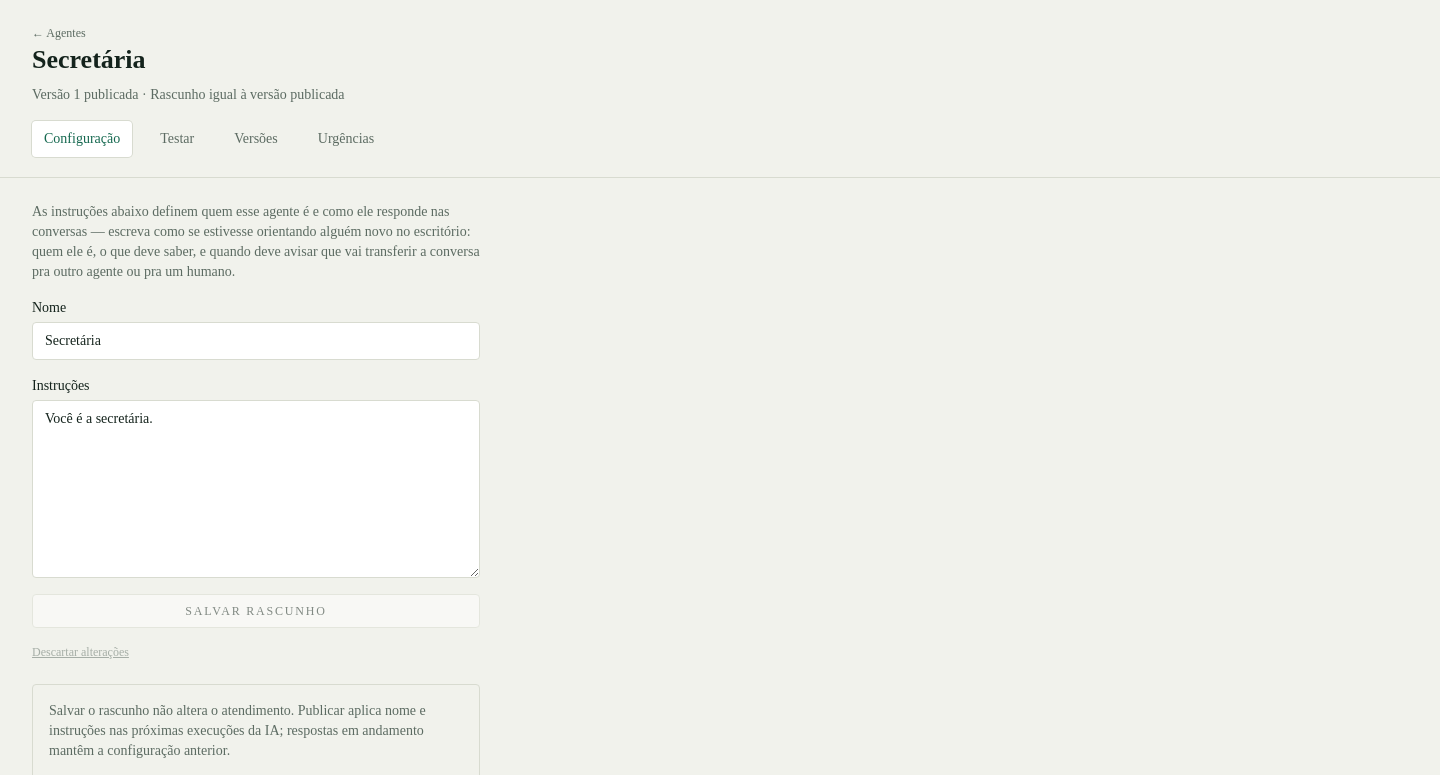
AgentDetail › preserva o texto e mantém o aviso quando o salvamento falha
Replace the text in the field showing "Secretária" with "Nome ajustado" at (256, 340), box [32, 322, 480, 360]
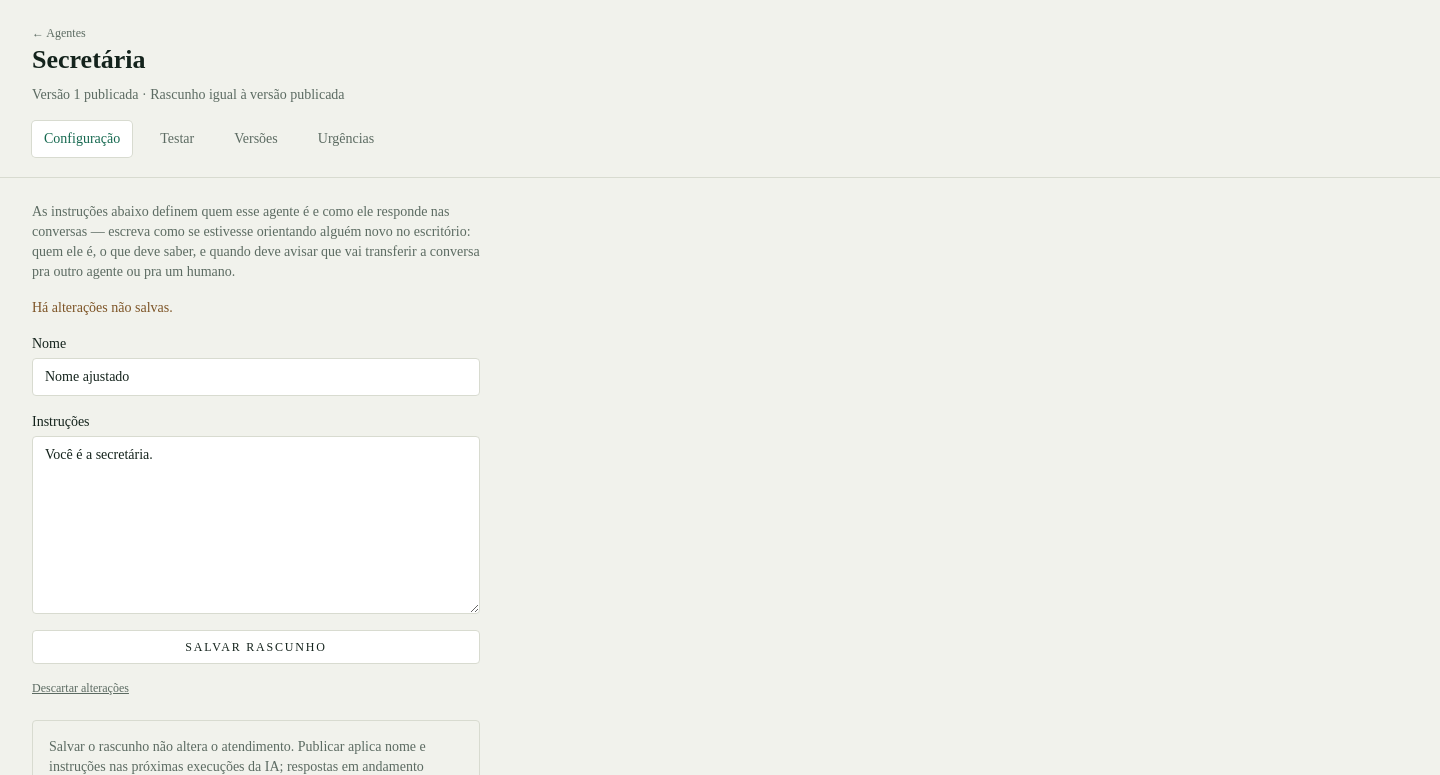
Click the button "Salvar rascunho" at (256, 646), box [32, 630, 480, 664]
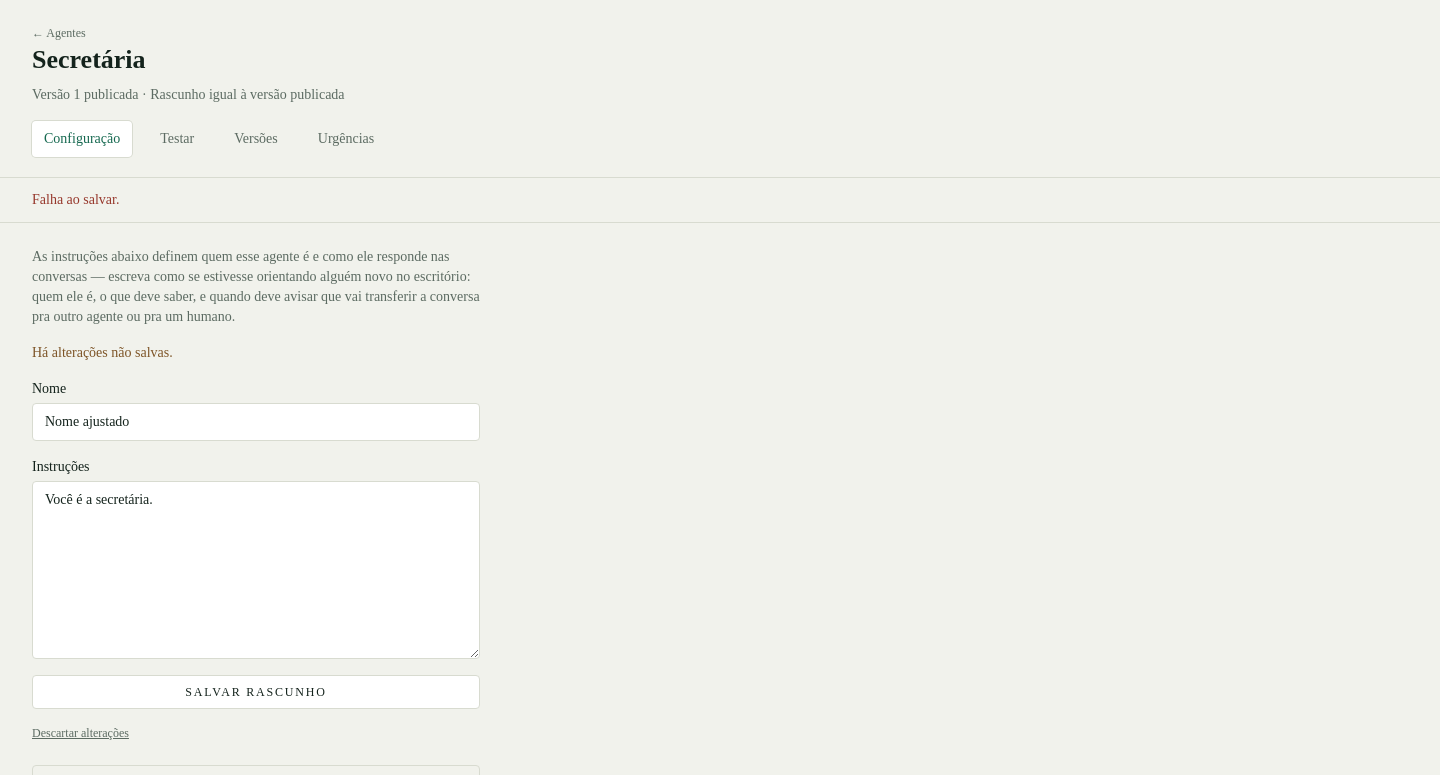
Result: the text "Há alterações não salvas." is shown at [32, 344, 173, 360]
Result: the message "Falha ao salvar." is shown at [0, 178, 1439, 222]
